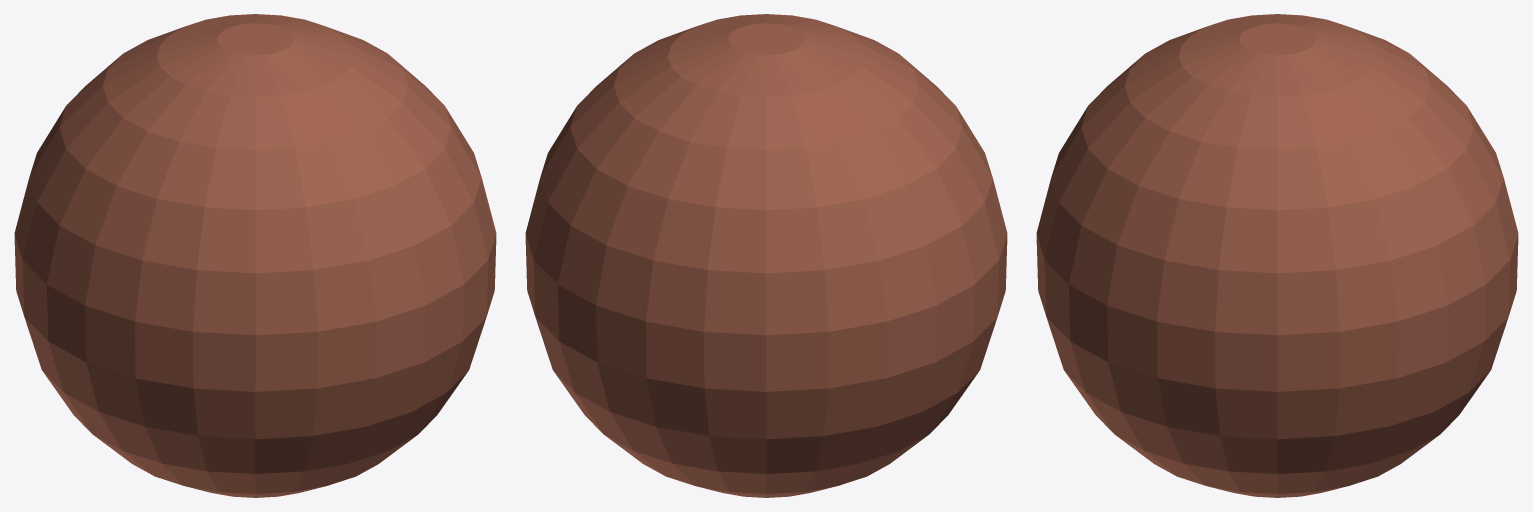
File: ball.dae
3 renders of one model, left to right at view 1: azimuth 30°, elevation 25°; view 2: azimuth 150°, elevation 25°; view 3: azimuth 270°, elevation 25°, orthographic.
Visible parts, largest first — view 1: ball; view 2: ball; view 3: ball.
Boxes of the visible parts, x1,y1,x2,y2 form: ball: (14, 14, 496, 497); ball: (525, 14, 1007, 497); ball: (1036, 14, 1518, 497).
Bounding box in the file's own units: 0.2208 × 0.2208 × 0.22.
